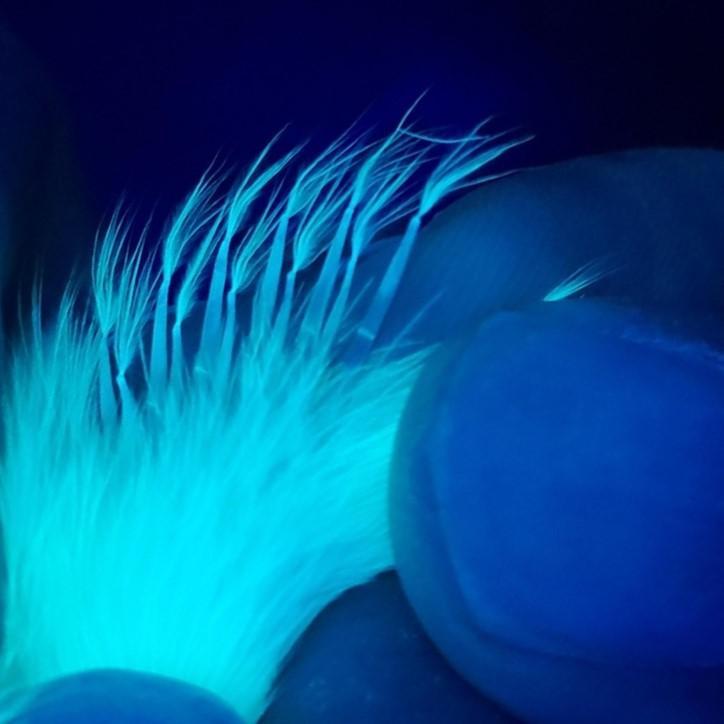female: (87, 188, 424, 545)
